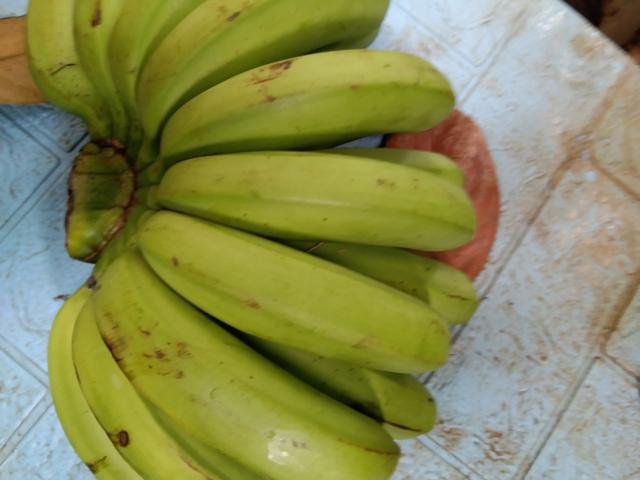freshunripe: (137, 209, 462, 375), (147, 136, 481, 258)
unripe: (90, 252, 401, 479), (127, 0, 390, 132), (168, 44, 464, 153)
